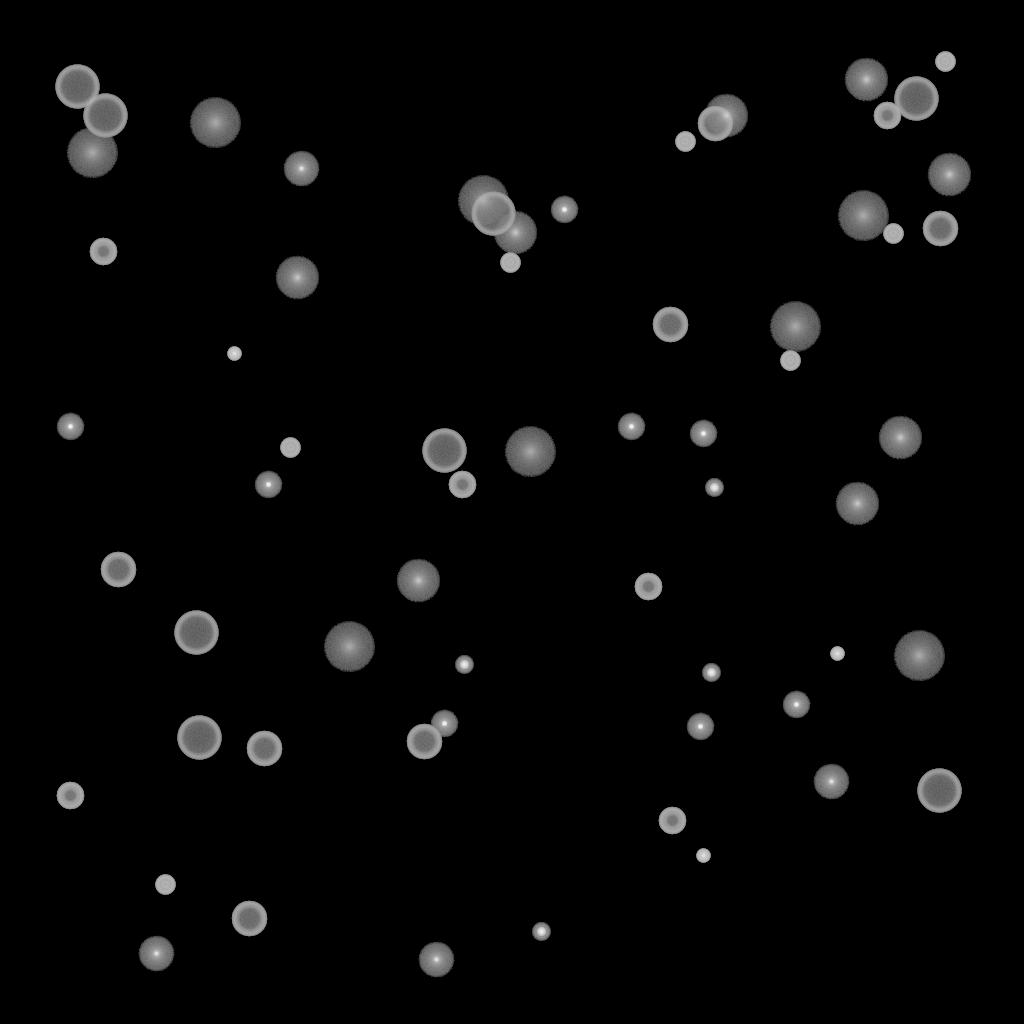depth:-10: (689, 420, 717, 448), (686, 713, 714, 741), (430, 710, 458, 738), (782, 691, 810, 719), (550, 196, 578, 224), (617, 413, 645, 441), (56, 413, 84, 441), (254, 471, 282, 499)
depth:-20: (702, 664, 720, 682), (455, 656, 473, 674), (705, 479, 723, 497), (532, 923, 550, 941)
depth:-30: (227, 347, 241, 361), (696, 849, 710, 863), (830, 647, 844, 661)
depth:-40: (155, 875, 175, 895), (780, 351, 800, 371), (675, 132, 695, 152), (500, 253, 520, 273), (935, 52, 955, 72), (280, 438, 300, 458), (883, 224, 903, 244)
depth:-50: (448, 471, 476, 499), (634, 573, 662, 601), (658, 807, 686, 835), (89, 238, 117, 266), (873, 102, 901, 130), (56, 782, 84, 810)
depth:-60: (246, 731, 282, 767), (231, 901, 267, 937), (406, 724, 442, 760), (922, 211, 958, 247), (100, 552, 136, 588), (697, 106, 733, 142), (652, 307, 688, 343)
depth:-70: (471, 192, 515, 236), (177, 716, 221, 760), (174, 611, 218, 655), (422, 429, 466, 473), (83, 94, 127, 138), (55, 65, 99, 109), (894, 77, 938, 121), (917, 769, 961, 813)
depth:0: (418, 942, 454, 978), (283, 151, 319, 187), (138, 936, 174, 972), (813, 764, 849, 800)
depth:10: (878, 416, 922, 460), (844, 58, 888, 102), (396, 559, 440, 603), (275, 256, 319, 300), (835, 482, 879, 526), (704, 94, 748, 138), (927, 153, 971, 197), (493, 211, 537, 255)
depth:20: (769, 302, 821, 352), (323, 622, 375, 672), (189, 98, 241, 148), (893, 631, 945, 681), (457, 176, 509, 226), (66, 128, 118, 178), (837, 191, 889, 241), (504, 427, 556, 477)
